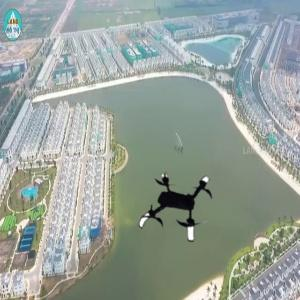drone: (135, 167, 222, 254)
